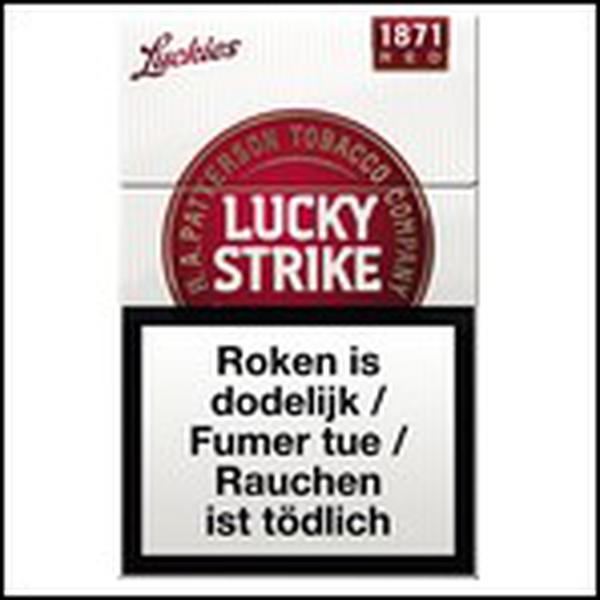lucky_strike_red: (123, 21, 475, 576)
